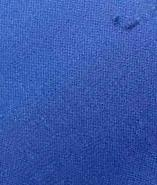knot: (111, 14, 140, 33)
